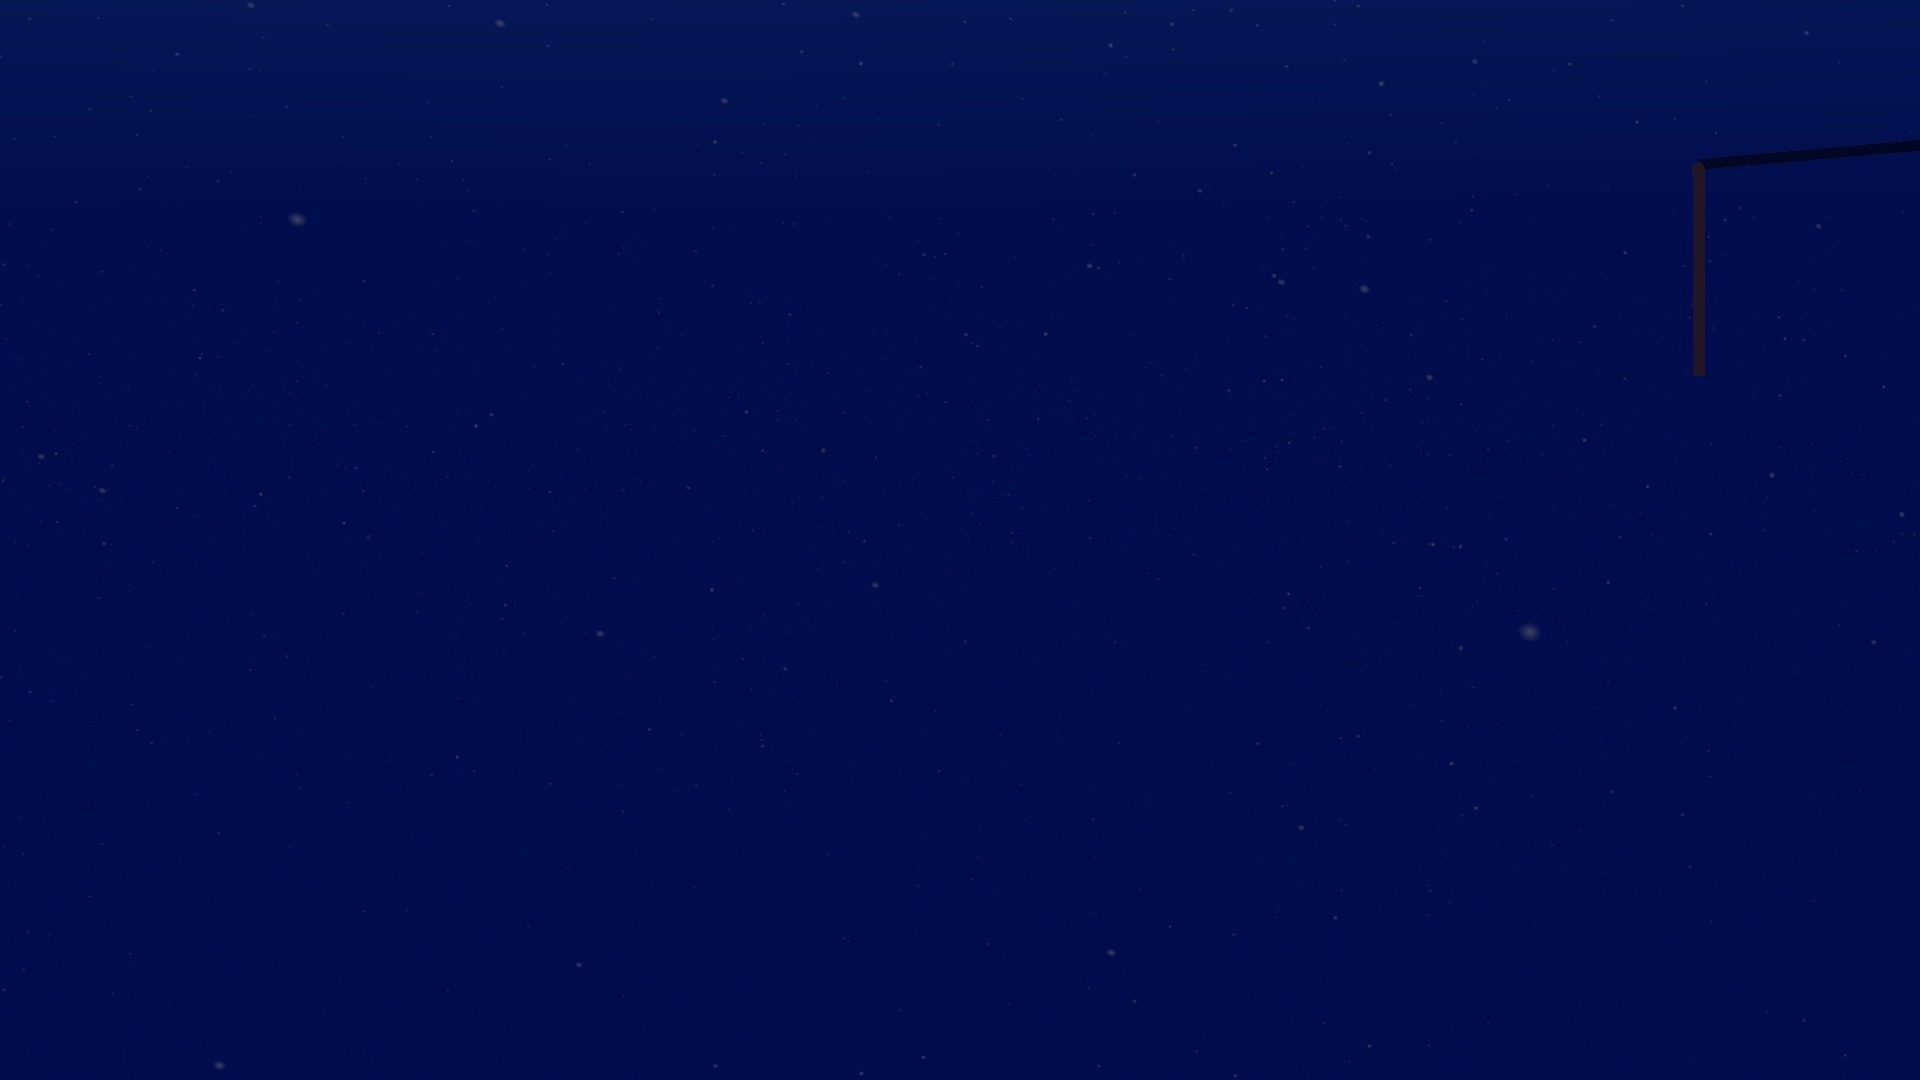Gate: (1687, 138, 1920, 381)
